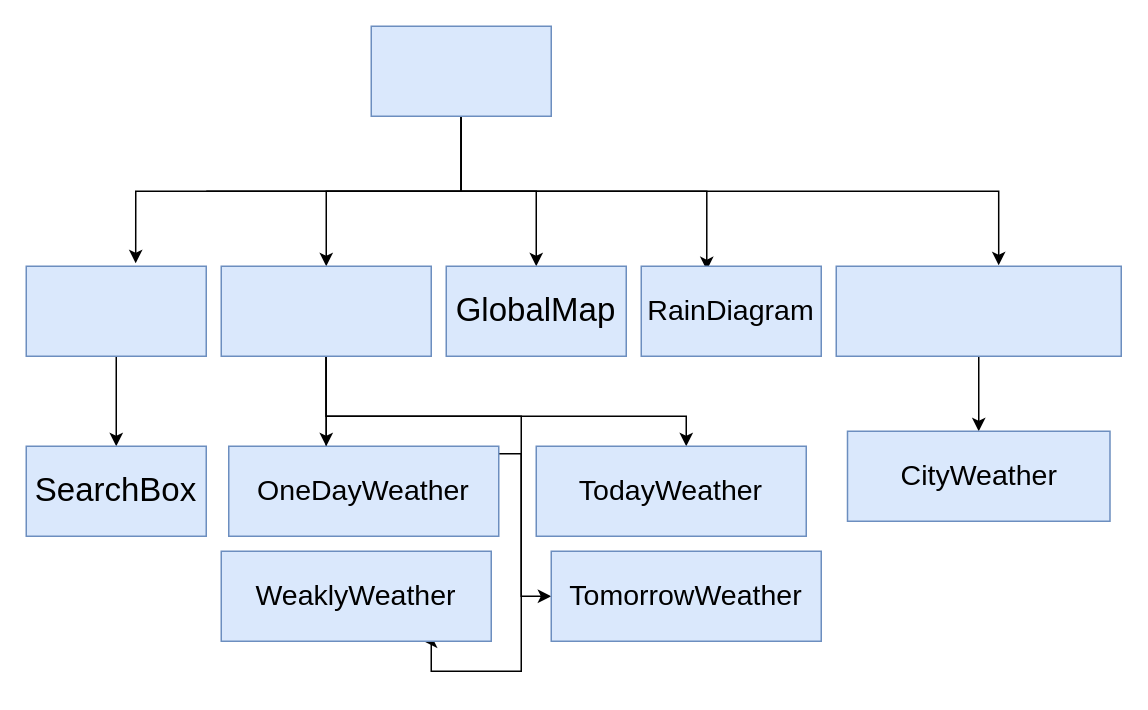
The diagram is 1148 pixels wide and 710 high, and some of its shapes have lost their labels. The shapes that lost their labels are listed below. From the top down, each one's centre as x and y in pixels, then its label:
At point 460,70: "App".
At point 115,310: "Header.js".
At point 325,310: "WeatherList".
At point 978,310: "LargeCitiesWeather".
